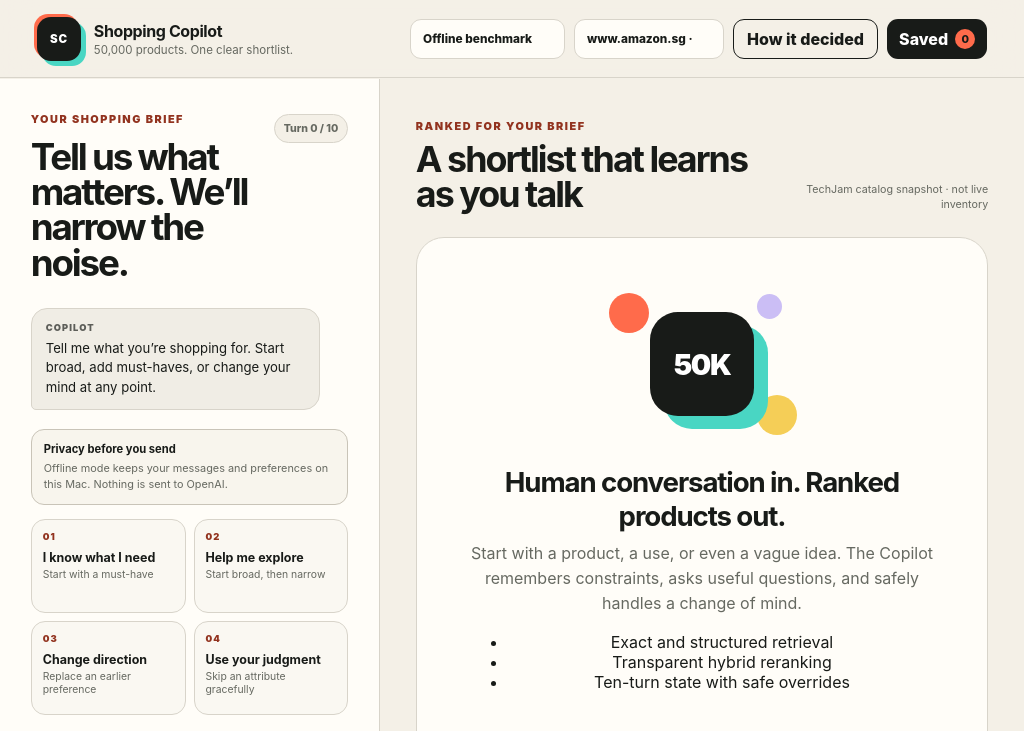
Shopping Copilot web experience › keeps hybrid local and ungated when no OpenAI key was loaded
This screenshot has width=1024, height=731.
Expected: the heading "Tell us what matters. We’ll narrow the noise." is shown, [31,139,260,280]
Select "Hybrid" in the 1st dropdown named "Shopping mode": (488, 38) [410,18,565,58]
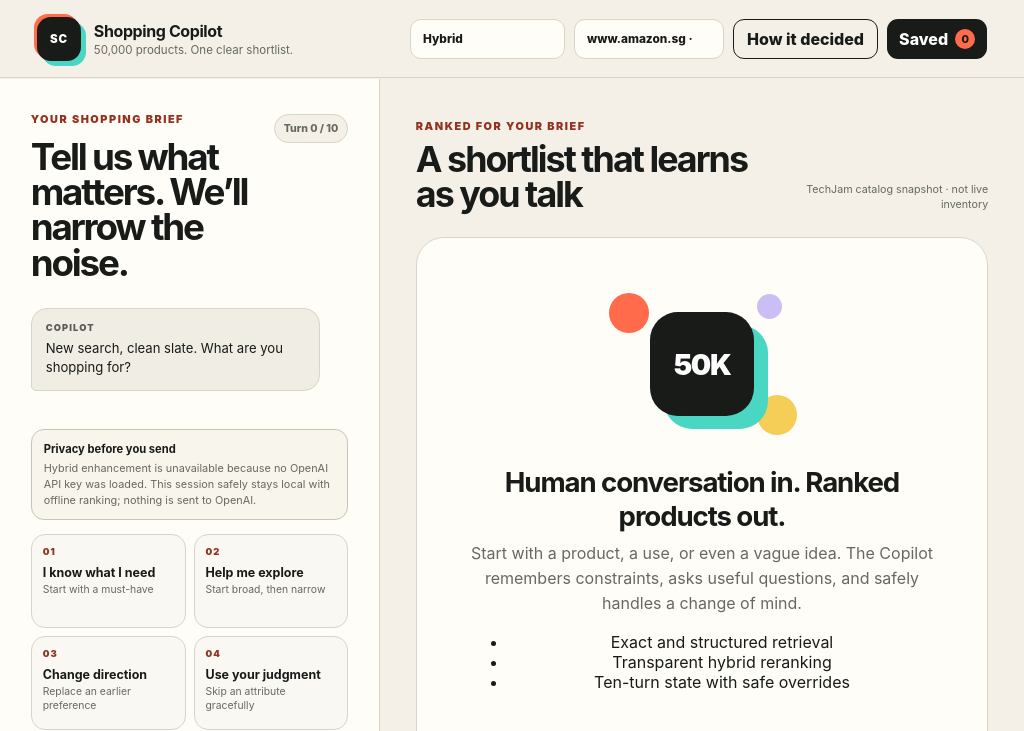
Expected: the button "01 I know what I need Start with a must-have" is enabled, [31,534,186,628]
Result: the text "no OpenAI API key was loaded" is shown at [44,461,330,507]
